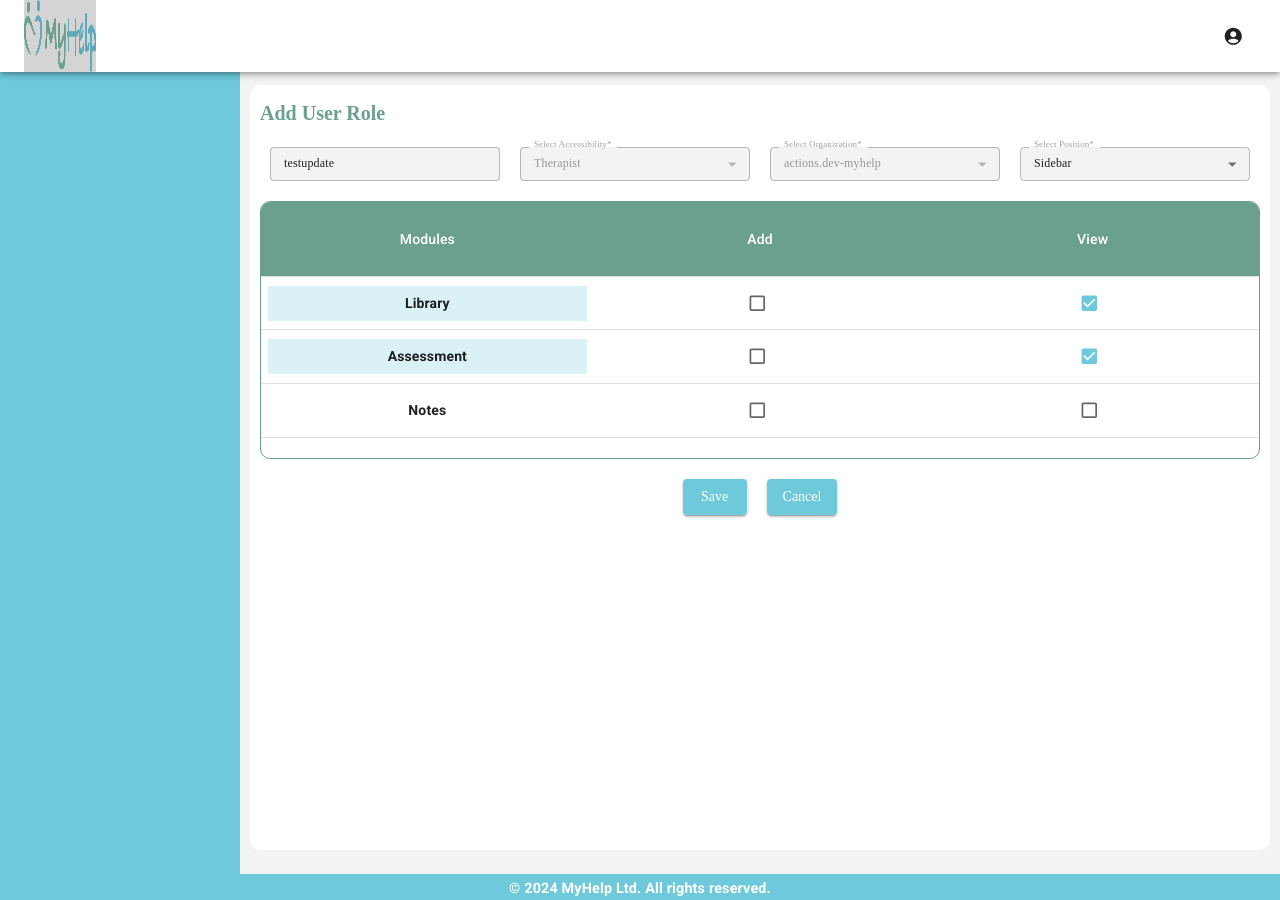
Test: Admin update user role › should render server error
Replace the text in the field with test id "userRoleName" with "servererror". click: (385, 164)
box: [270,147,500,181]
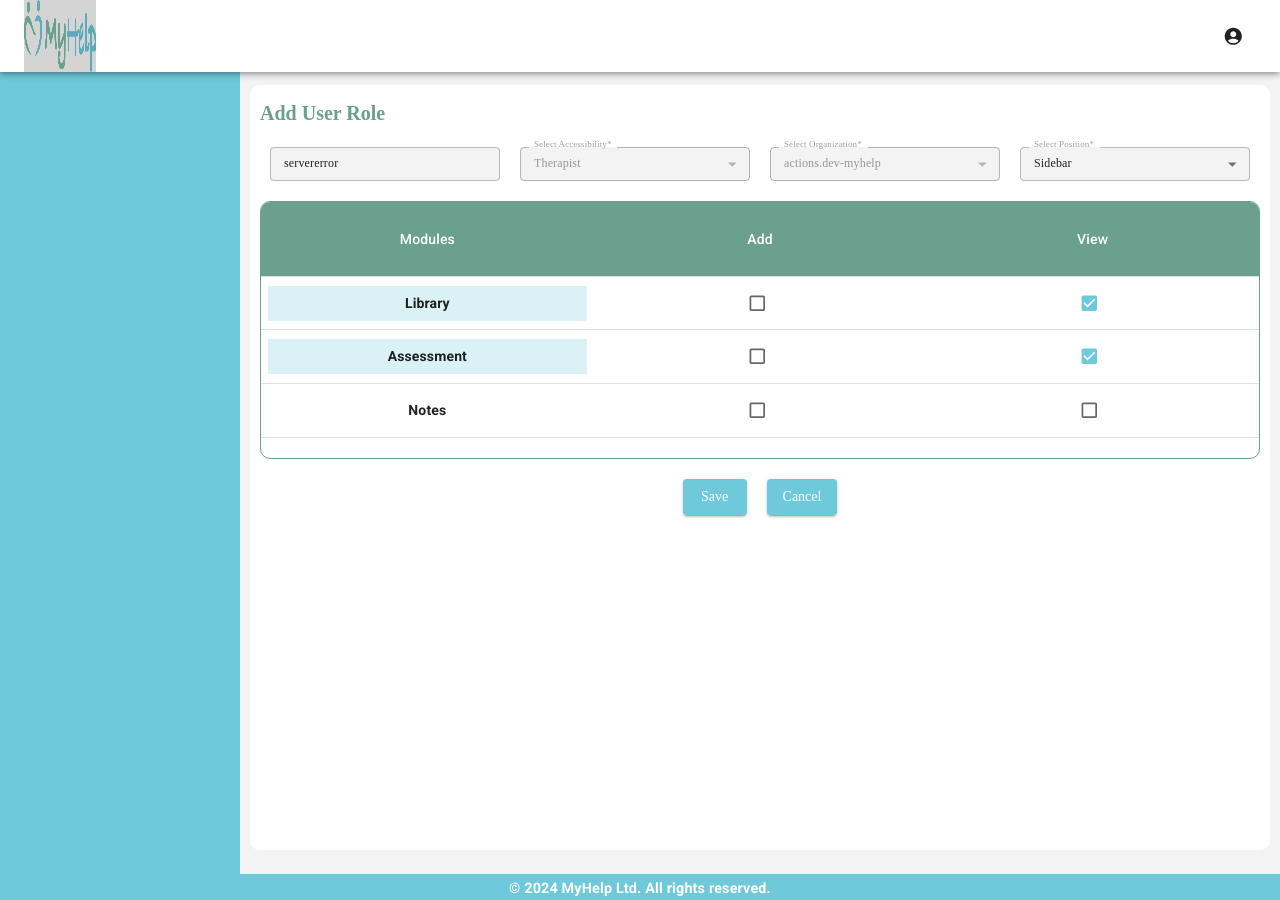
Click the button with test id "submitForm". click: (715, 497)
box: [683,479,747,515]
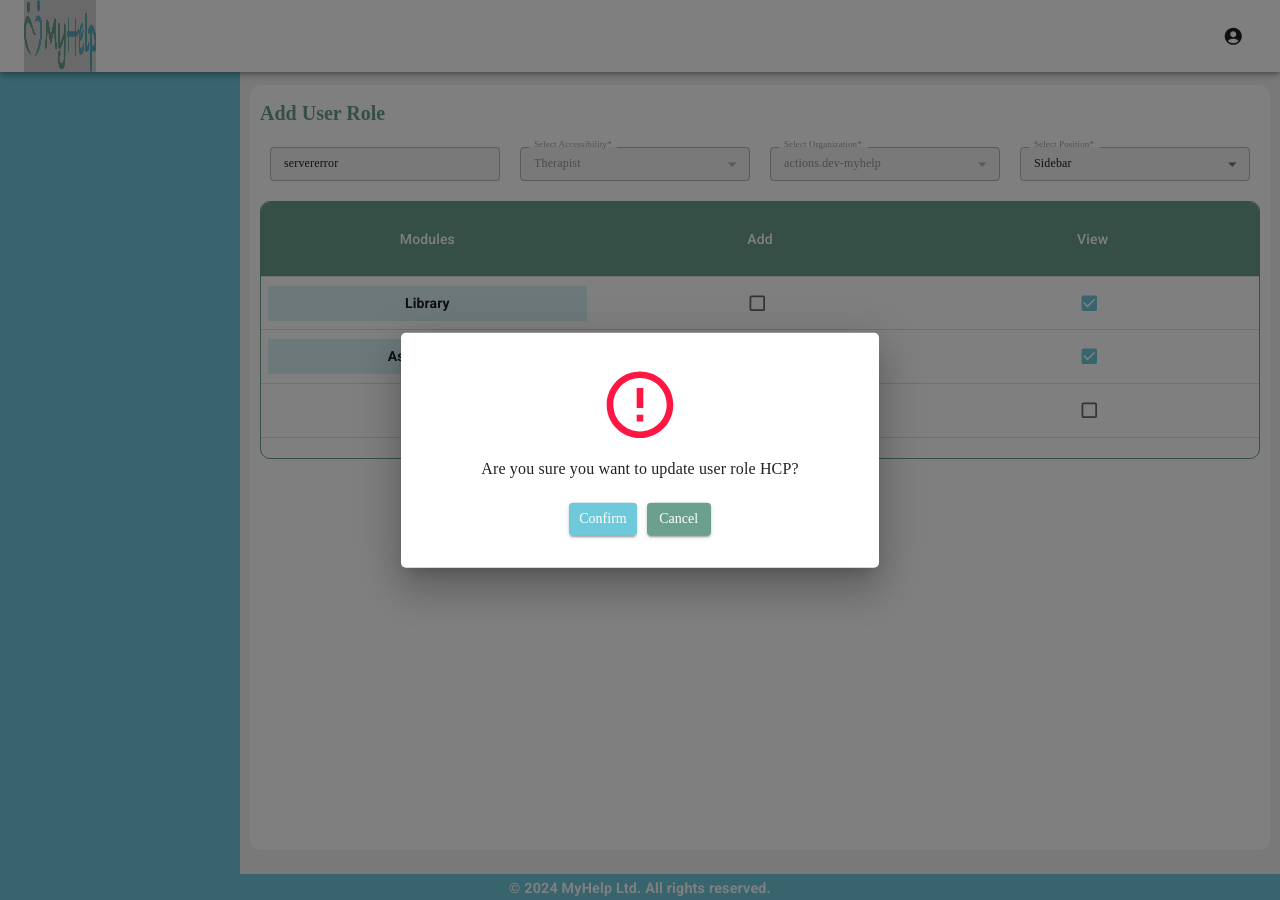
Click the button with test id "confirmButton". click: (603, 519)
box: [569,503,637,535]
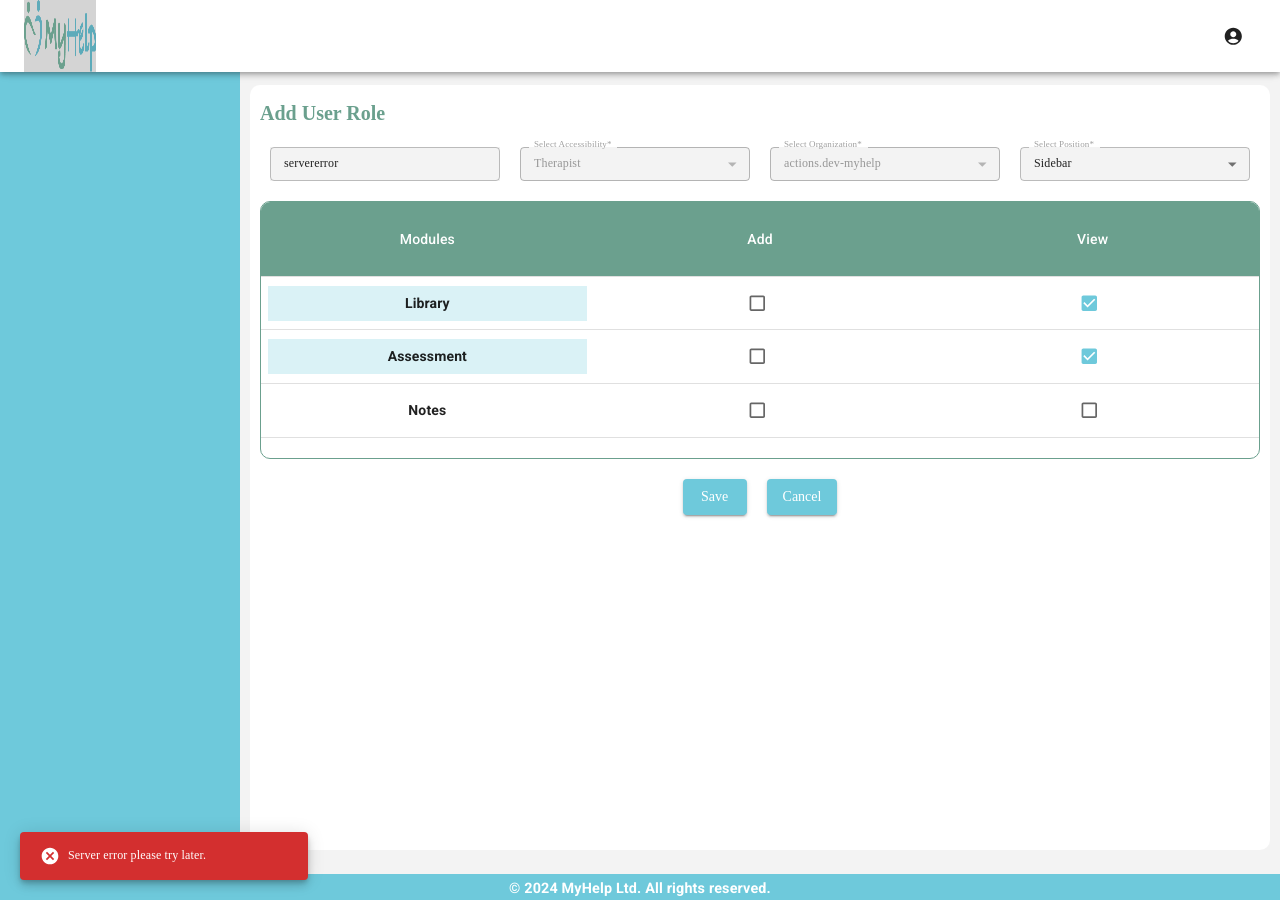
Now the text "Server error please try later." is shown, box [40,846,206,866]
